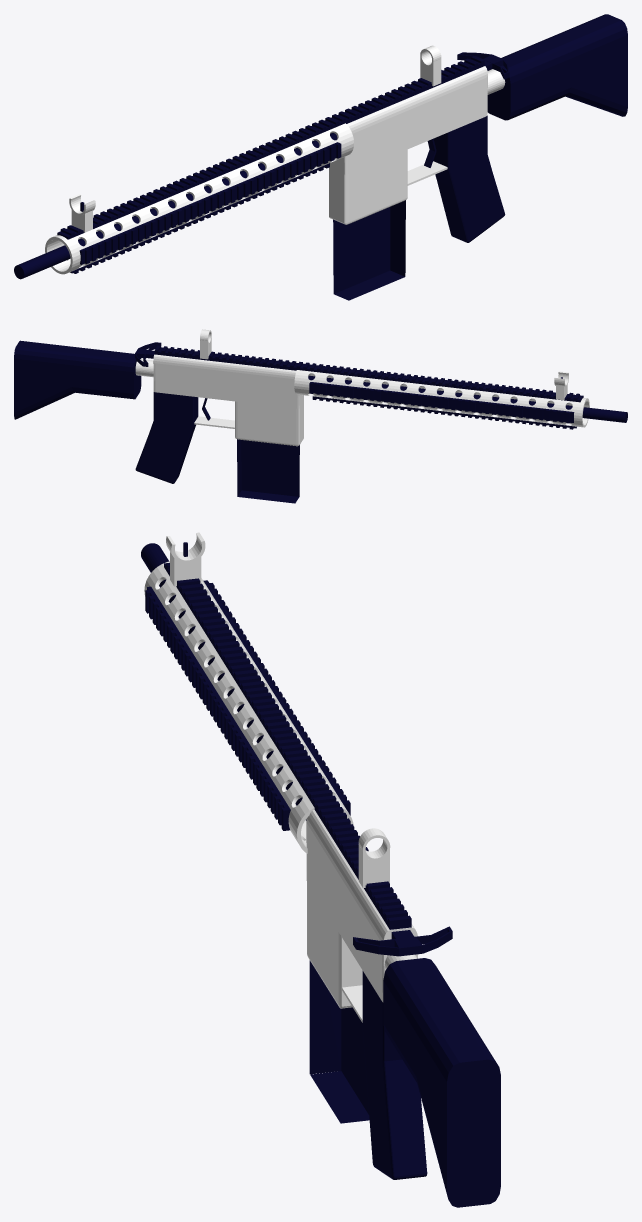
Rendered from stoner0024.obj.
3 views of the same model, one above another, from view 1: azimuth 30°, elevation 25°; view 2: azimuth 150°, elevation 25°; view 3: azimuth 270°, elevation 25° (orthographic). The views are drawn at different scales.
Visible parts, largest first — view 1: shoulderStock, upperReceiver, rearPistolGrip, mag, picatinyRail, handGuard, picatinyRailLeft, magWell, barrel, picatinyRailBottom, handle, lowerTriggerGuard (+1 smaller); view 2: shoulderStock, upperReceiver, handGuard, rearPistolGrip, mag, picatinyRail, picatinyRailRight, magWell, barrel, picatinyRailBottom, lowerTriggerGuard, handle (+1 smaller); view 3: shoulderStock, picatinyRail, rearPistolGrip, handGuard, mag, upperReceiver, picatinyRailLeft, magWell, picatinyRailRight, handle, barrel.
Part boxes in pixels (x1,y1,x2,y2): shoulderStock: (487,14,627,120); upperReceiver: (329,66,487,175); rearPistolGrip: (433,115,505,242); mag: (333,200,405,300); picatinyRail: (57,56,484,239); handGuard: (45,123,354,274); picatinyRailLeft: (79,142,341,264); magWell: (329,149,407,224); barrel: (14,133,337,279); picatinyRailBottom: (70,163,329,273); handle: (457,52,509,79); lowerTriggerGuard: (407,161,447,185); shoulderStock: (14,340,141,419); upperReceiver: (153,354,303,408); handGuard: (294,370,589,427); rearPistolGrip: (135,392,198,483); mag: (237,439,299,503); picatinyRail: (154,345,583,402); picatinyRailRight: (309,382,574,423); magWell: (235,401,303,446); barrel: (308,375,627,422); picatinyRailBottom: (312,396,576,429); lowerTriggerGuard: (194,416,234,428); handle: (135,342,161,366); shoulderStock: (383,958,500,1207); picatinyRail: (164,562,411,929); rearPistolGrip: (362,971,427,1179); handGuard: (144,561,353,853); mag: (309,960,369,1123); upperReceiver: (306,809,417,1002); picatinyRailLeft: (145,586,290,830); magWell: (307,882,362,1008); picatinyRailRight: (203,580,350,815); handle: (353,926,452,956); barrel: (141,543,306,820).
Size of the model in its own units: 8.78 by 2.51 by 2.57.
